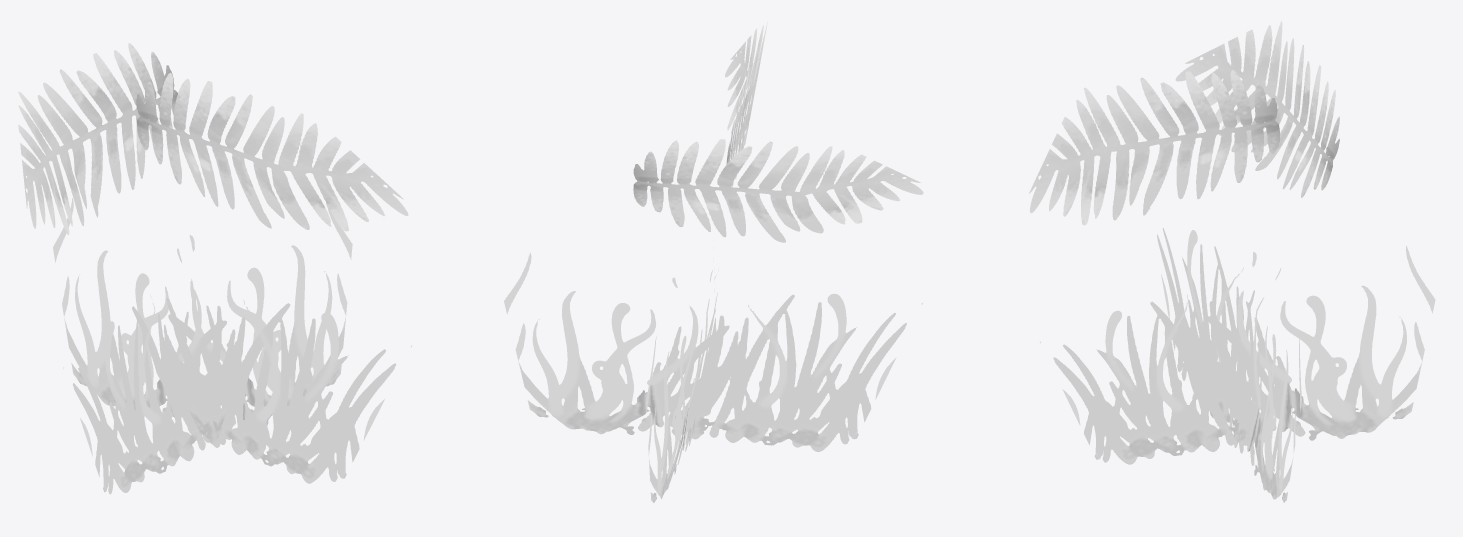
The model's file is FlowerMeadow3.fbx.
3 views of the same model, side by side, from view 1: azimuth 30°, elevation 25°; view 2: azimuth 150°, elevation 25°; view 3: azimuth 270°, elevation 25° (orthographic). The views are drawn at different scales.
Parts seen in each view (by area): view 1: FlowerMeadow3; view 2: FlowerMeadow3; view 3: FlowerMeadow3.
Boxes of the visible parts, x1,y1,x2,y2 form: FlowerMeadow3: [18, 43, 411, 494]; FlowerMeadow3: [504, 21, 923, 502]; FlowerMeadow3: [1029, 21, 1435, 502].
Bounding box in the file's own units: 46.89 × 44.79 × 46.92.
